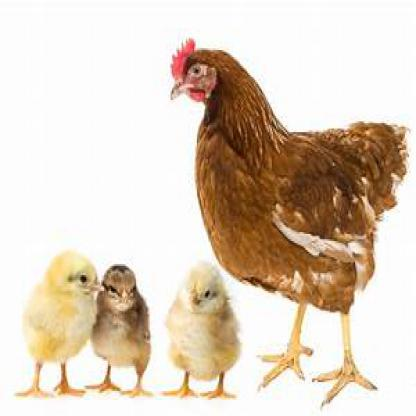chicken: (169, 36, 408, 407), (10, 248, 105, 400), (160, 260, 245, 404), (87, 264, 154, 396)
